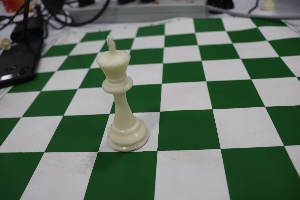white_king: (81, 30, 153, 160)
